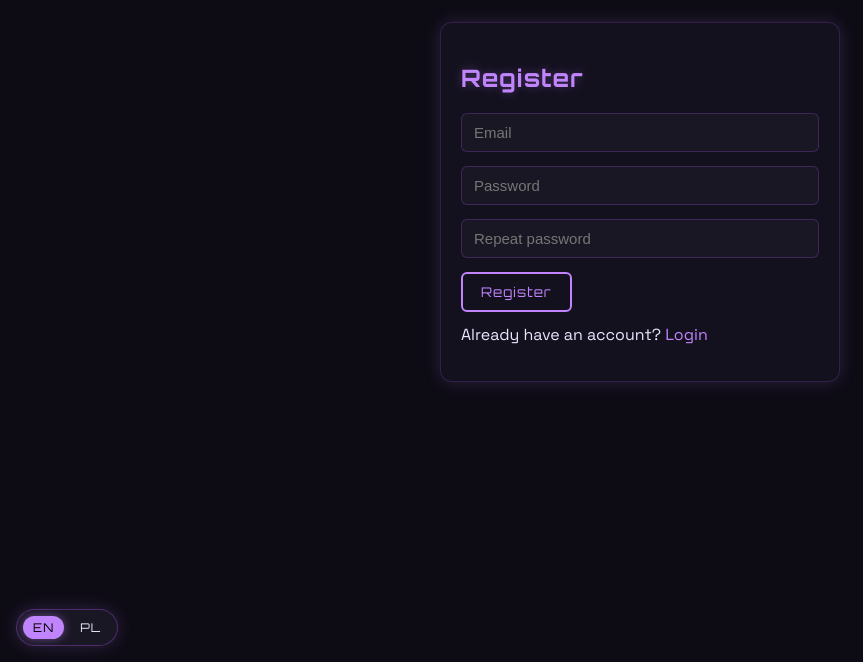
Test: RegisterPage › shows an error when registration fails
In the field with placeholder "Email": (640,132) left=461, top=113, right=819, bottom=152, type "user@example.com"
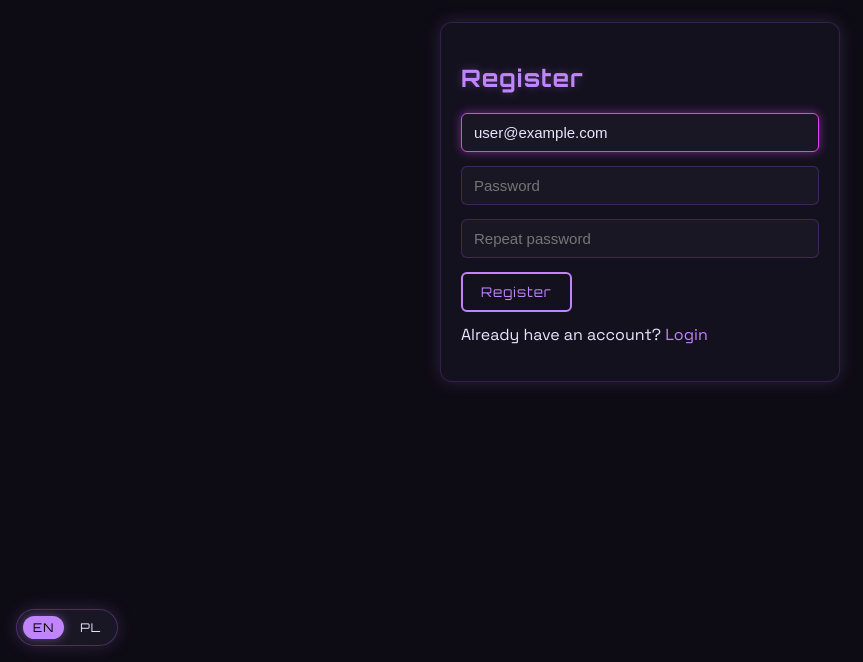
In the password field with placeholder "Password": (640,185) left=461, top=166, right=819, bottom=205, type "Secret123!"
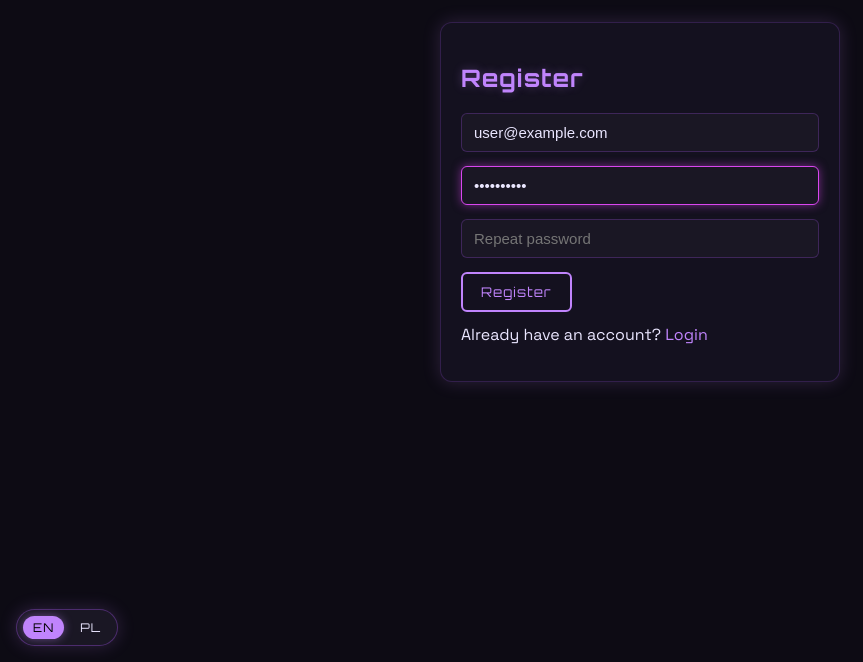
In the password field with placeholder "Repeat password": (640,238) left=461, top=219, right=819, bottom=258, type "Secret123!"
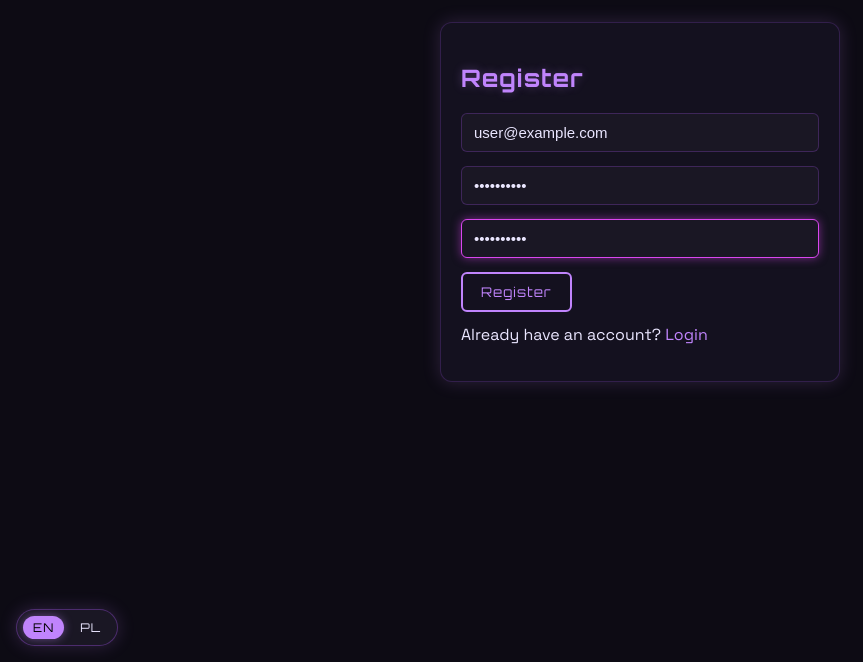
Click the button "Register": (516,292) left=461, top=272, right=572, bottom=312
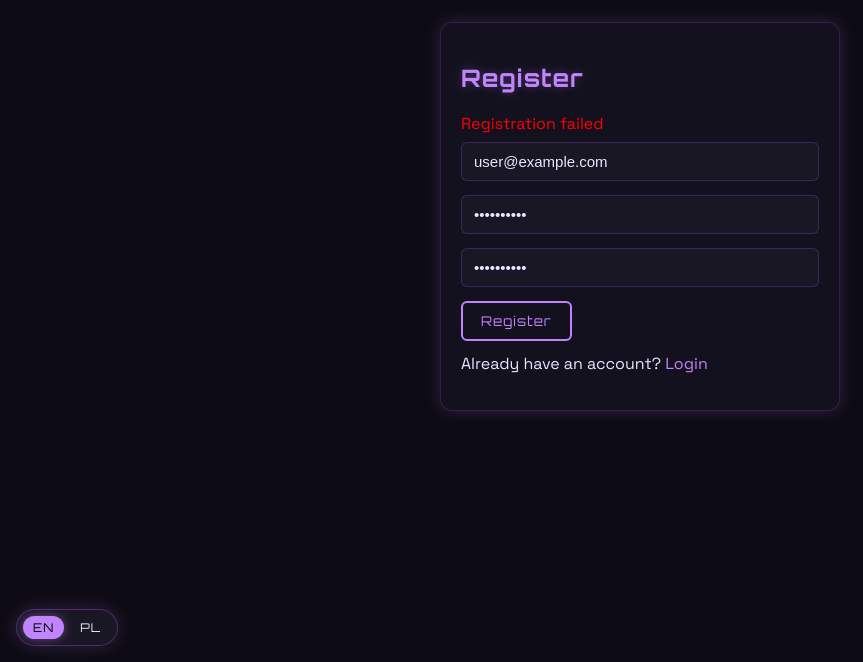
Expected: the text "Registration failed" is shown, left=461, top=113, right=604, bottom=134
